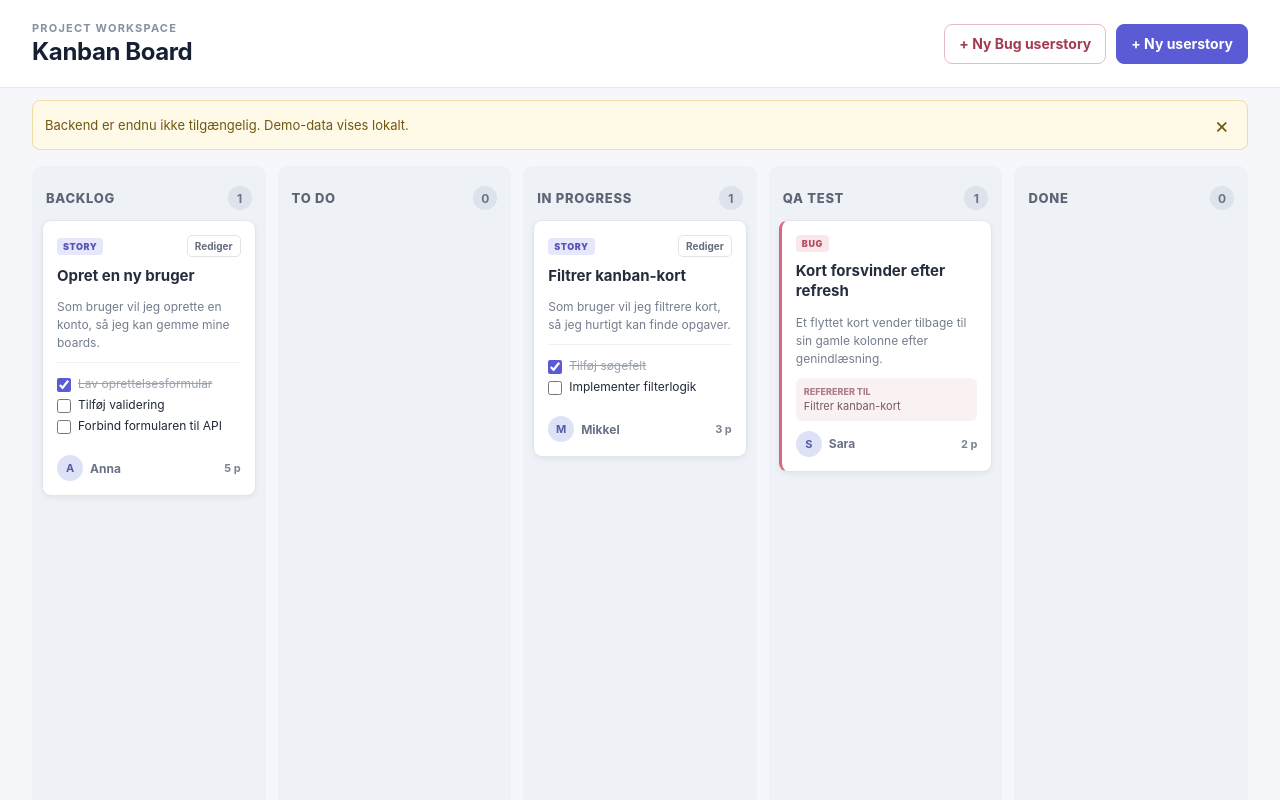
Test case: Kanban board › creates a bug story linked to a user story
Click the button "+ Ny Bug userstory" at {"x": 1025, "y": 44}, box 944,24 -> 1106,64
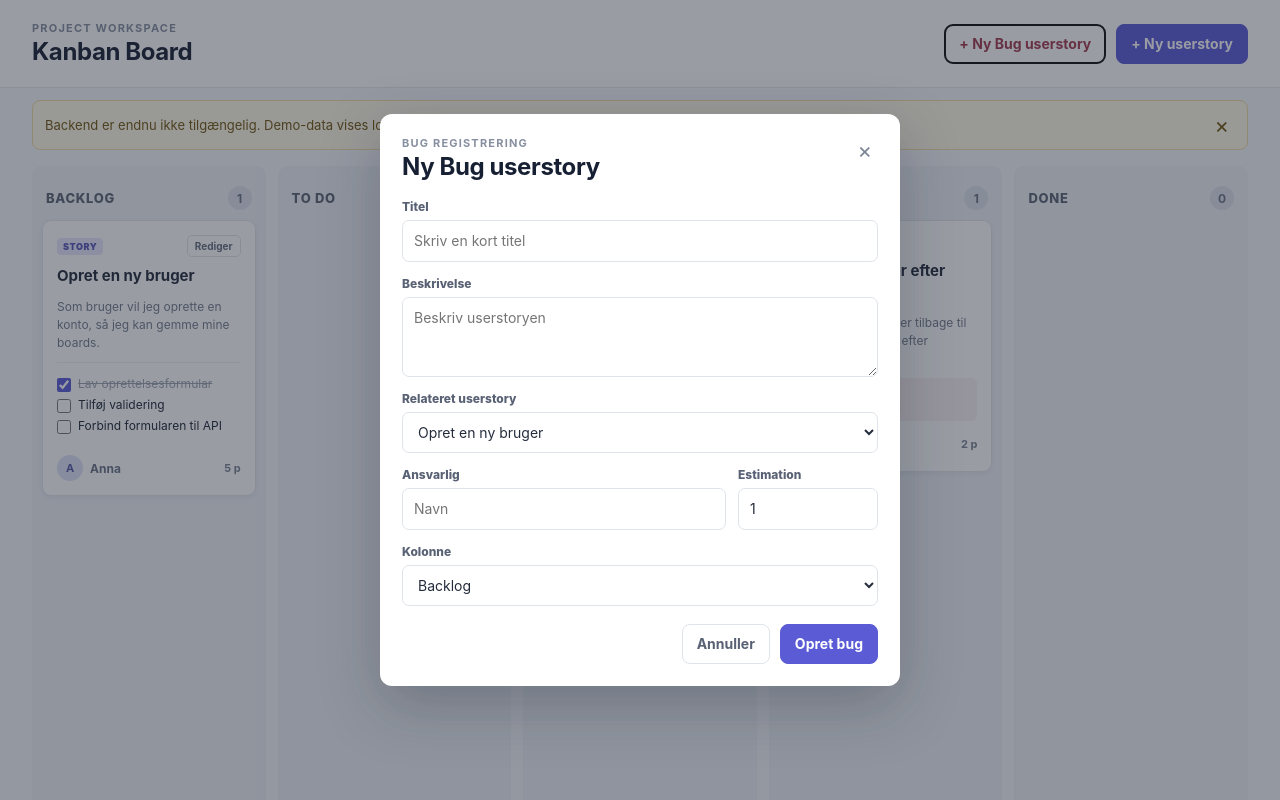
Type "Login fejler" into the field labelled "Titel" at {"x": 640, "y": 241}, box 402,220 -> 878,262
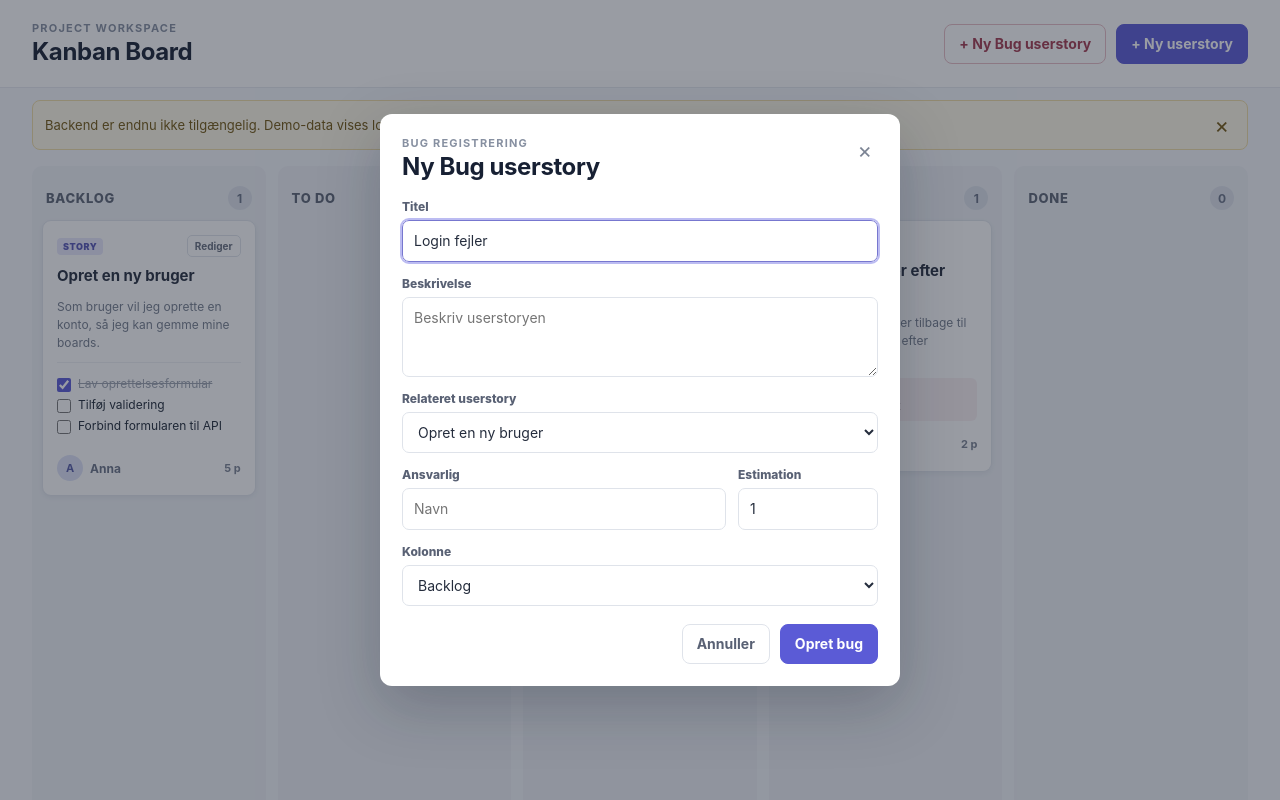
Type "Login sender en fejl" into the text box labelled "Beskrivelse" at {"x": 640, "y": 337}, box 402,297 -> 878,377
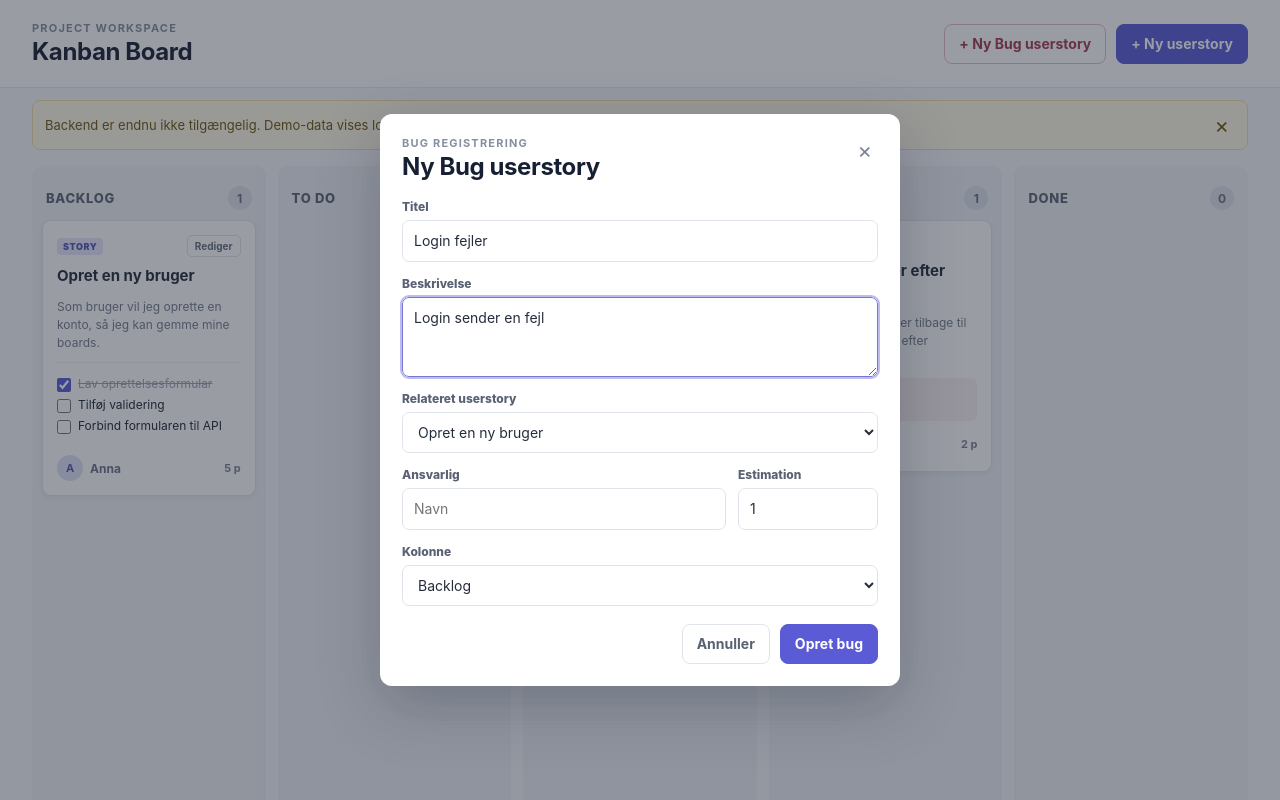
Type "Mads" into the field labelled "Ansvarlig" at {"x": 564, "y": 509}, box 402,488 -> 726,530
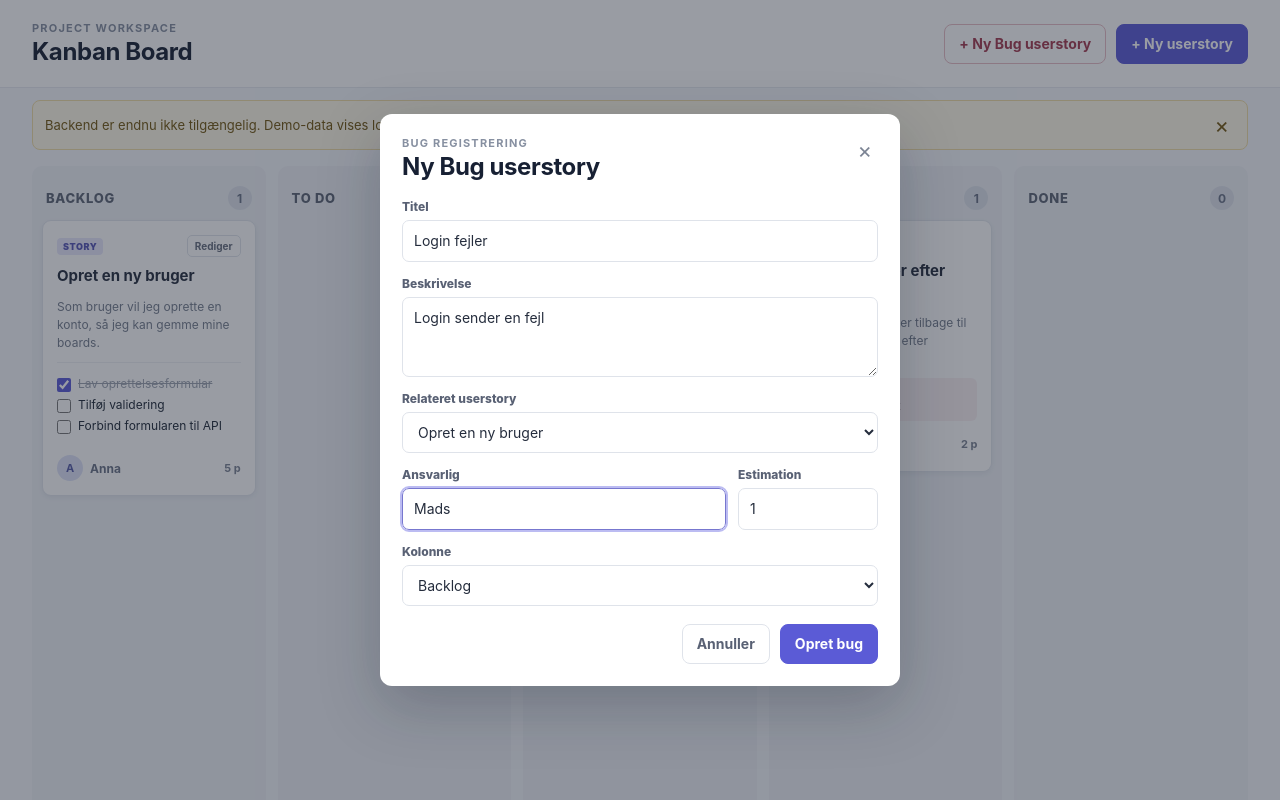
Click the button "Opret bug" at {"x": 829, "y": 644}, box 780,624 -> 878,664
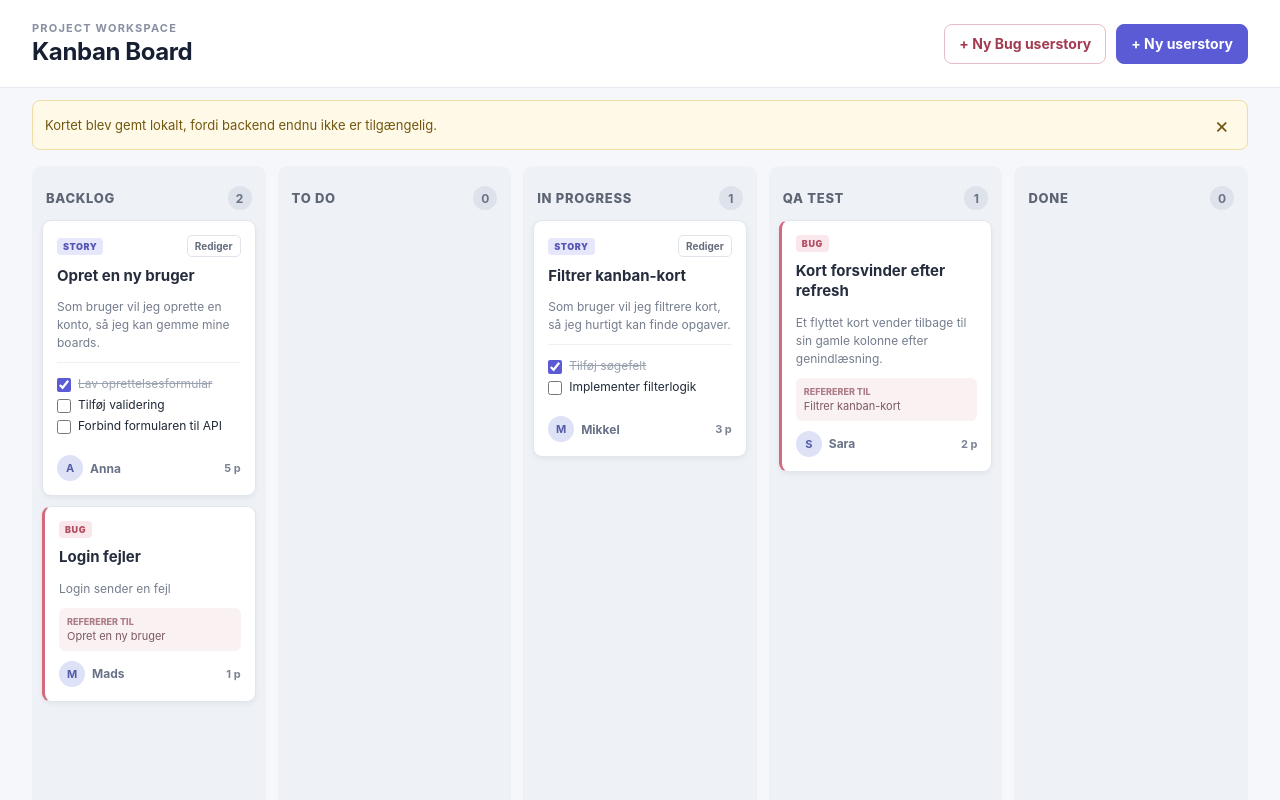
Expected: the heading "Login fejler" is shown, 59,547 -> 141,566
